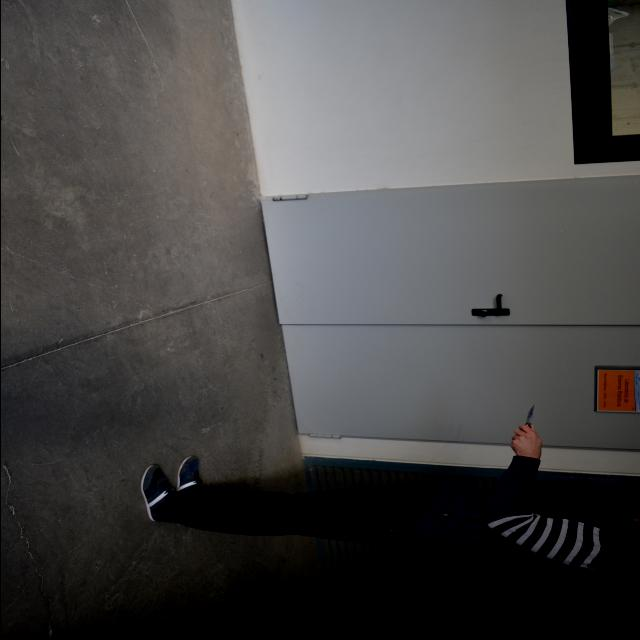knife: (520, 400, 539, 432)
